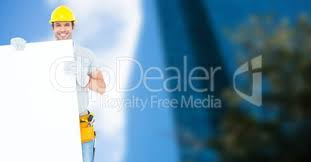Person_wearing_helmet: (47, 4, 77, 28)
